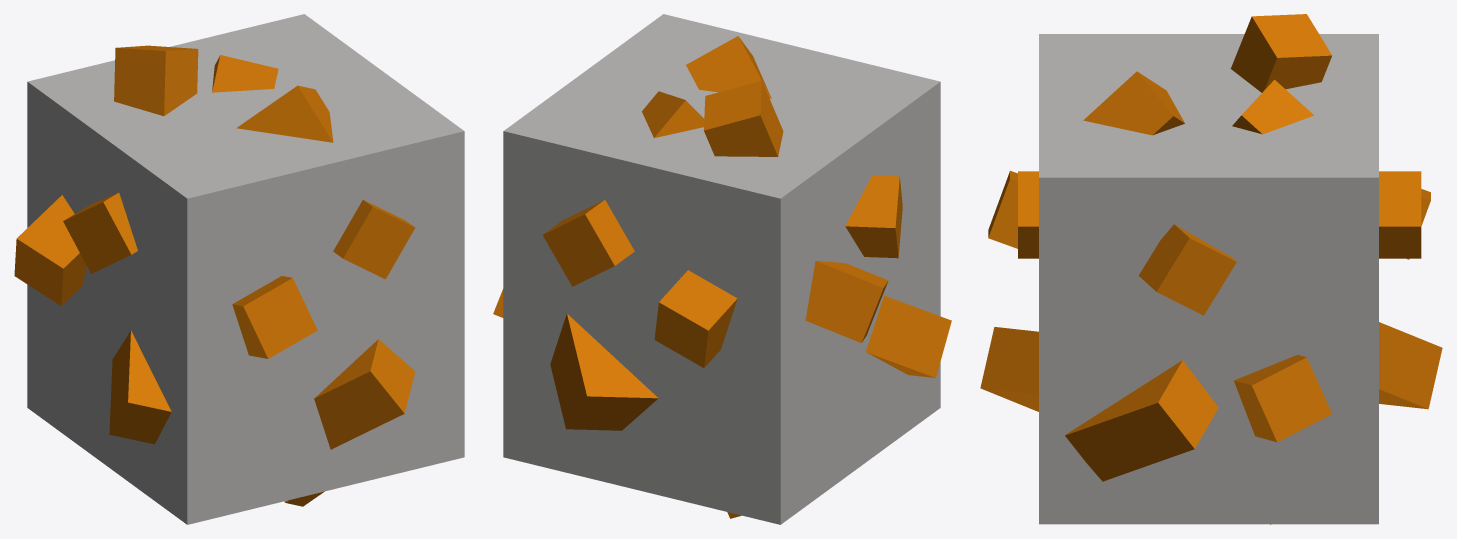
The model's file is iron_ore.glb.
3 views of the same model, side by side, from view 1: azimuth 30°, elevation 25°; view 2: azimuth 150°, elevation 25°; view 3: azimuth 270°, elevation 25° (orthographic). The views are drawn at different scales.
Parts seen in each view (by area): view 1: cube (×10); view 2: cube (×10); view 3: cube (×12).
Boxes of the visible parts, left/top/right/bottom form: cube (×10): left=14, top=14, right=464, bottom=524; cube (×10): left=503, top=14, right=951, bottom=524; cube (×12): left=980, top=14, right=1442, bottom=524.
Bounding box in the file's own units: 1.4 × 1.49 × 1.36.
2 materials, 2 textured.
